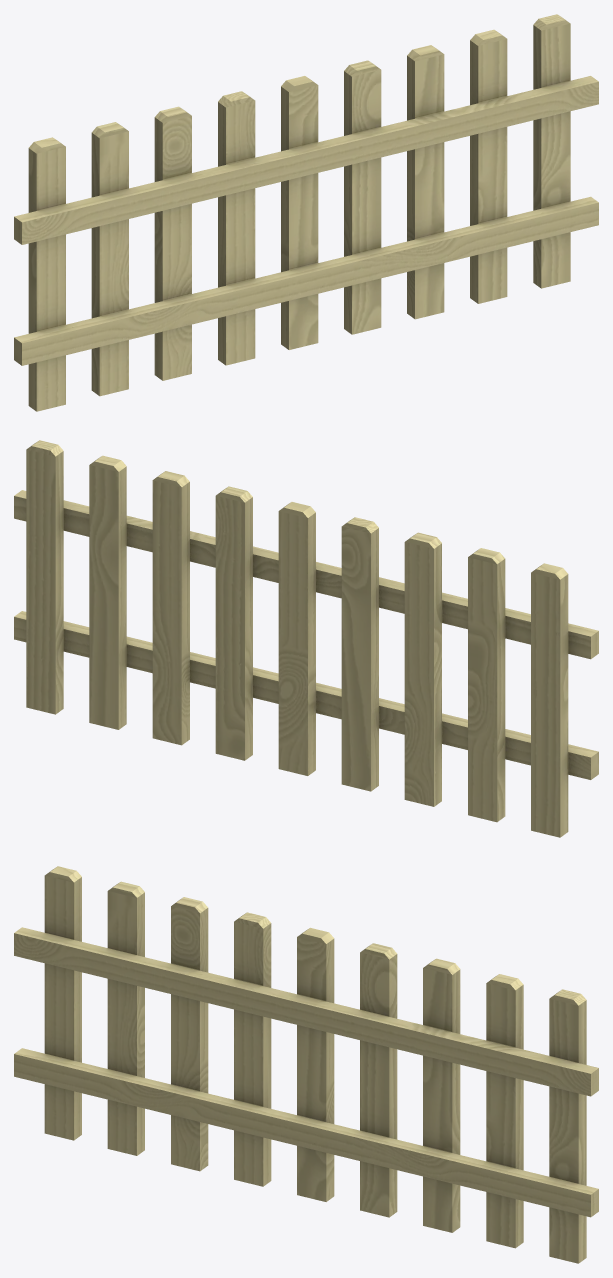
The model's file is picket-fence.glb.
The picture shows the model from 3 angles, top to bottom: view 1: azimuth 30°, elevation 25°; view 2: azimuth 150°, elevation 25°; view 3: azimuth 330°, elevation 25°; orthographic projection.
Visible parts, largest first — view 1: PicketFence_mesh; view 2: PicketFence_mesh; view 3: PicketFence_mesh.
Part boxes in pixels (bbox=[...]): PicketFence_mesh: bbox=[14, 14, 598, 411]; PicketFence_mesh: bbox=[14, 440, 598, 837]; PicketFence_mesh: bbox=[14, 866, 598, 1263].
Size of the model in its own units: 2.3 by 0.9997 by 0.1109.
Materials: 1 (1 with a texture image).
